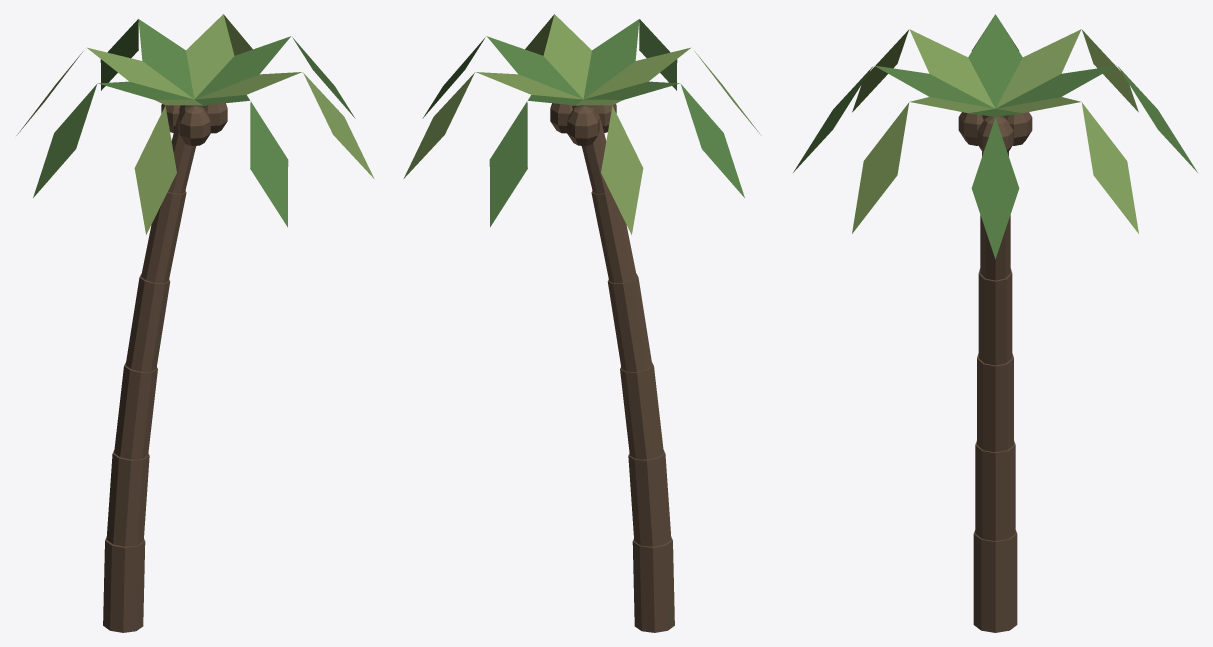
File: nature-bent-palm.lod0.glb
3 views of the same model, side by side, from view 1: azimuth 30°, elevation 25°; view 2: azimuth 150°, elevation 25°; view 3: azimuth 270°, elevation 25° (orthographic). The views are drawn at different scales.
Visible parts, largest first — view 1: nature-bent-palm__body; view 2: nature-bent-palm__body; view 3: nature-bent-palm__body.
Boxes of the visible parts, box(x1,y1,x2,y2) form: nature-bent-palm__body: box(16, 14, 374, 632); nature-bent-palm__body: box(403, 14, 761, 632); nature-bent-palm__body: box(793, 14, 1197, 632).
Size of the model in its own units: 3.4 by 5.5 by 3.4.
